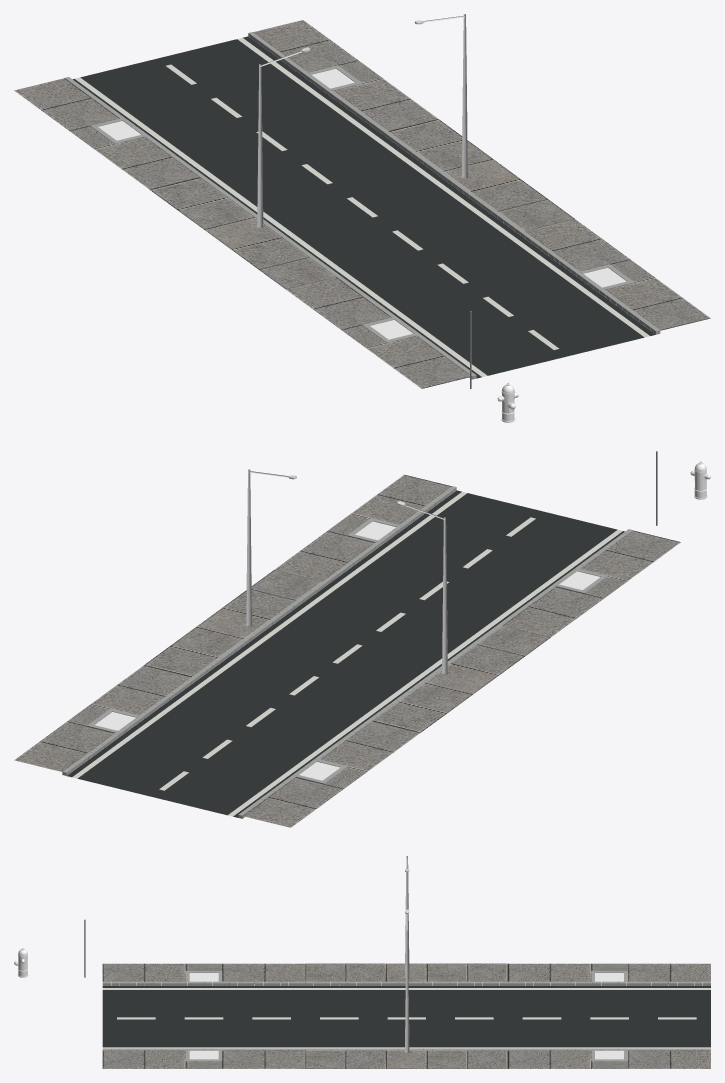
The model's file is carretera-recta-v1.glb.
3 renders of one model, top to bottom at view 1: azimuth 30°, elevation 25°; view 2: azimuth 150°, elevation 25°; view 3: azimuth 270°, elevation 25°, orthographic. The views are drawn at different scales.
Visible parts, largest first — view 1: Plane.715, Plane.722, Plane.727, Plane.726, Plane.719, Plane.731, Plane.718, Plane.730, Plane.725, Plane.729, Plane.717, Plane.724 (+6 smaller); view 2: Plane.727, Plane.722, Plane.715, Plane.726, Plane.731, Plane.719, Plane.730, Plane.718, Plane.725, Plane.729, Plane.717, Plane.724 (+6 smaller); view 3: Plane.715, Plane.727, Plane.722, Plane.726, Plane.719, Plane.731, Plane.718, Plane.730, Plane.725, Plane.717, Plane.729, Plane.724 (+7 smaller).
Part boxes in pixels (x1=…): Plane.715: x1=344, y1=235, x2=655, y2=378; Plane.722: x1=208, y1=136, x2=519, y2=278; Plane.727: x1=73, y1=36, x2=383, y2=178; Plane.726: x1=150, y1=119, x2=574, y2=289; Plane.719: x1=286, y1=219, x2=710, y2=388; Plane.731: x1=14, y1=20, x2=438, y2=189; Plane.718: x1=336, y1=231, x2=660, y2=379; Plane.730: x1=65, y1=32, x2=387, y2=177; Plane.725: x1=200, y1=131, x2=524, y2=276; Plane.729: x1=75, y1=38, x2=378, y2=178; Plane.717: x1=346, y1=236, x2=649, y2=376; Plane.724: x1=211, y1=137, x2=513, y2=277; Plane.727: x1=67, y1=681, x2=364, y2=817; Plane.722: x1=197, y1=585, x2=494, y2=721; Plane.715: x1=327, y1=490, x2=624, y2=626; Plane.726: x1=144, y1=570, x2=550, y2=732; Plane.731: x1=14, y1=665, x2=420, y2=827; Plane.719: x1=274, y1=474, x2=680, y2=637; Plane.730: x1=62, y1=676, x2=372, y2=818; Plane.718: x1=323, y1=486, x2=632, y2=625; Plane.725: x1=193, y1=581, x2=502, y2=720; Plane.729: x1=72, y1=682, x2=362, y2=816; Plane.717: x1=332, y1=491, x2=622, y2=625; Plane.724: x1=202, y1=587, x2=492, y2=721; Plane.715: x1=102, y1=986, x2=305, y2=1050; Plane.727: x1=508, y1=986, x2=710, y2=1050; Plane.722: x1=305, y1=986, x2=508, y2=1050; Plane.726: x1=305, y1=963, x2=508, y2=1068; Plane.719: x1=102, y1=963, x2=305, y2=1068; Plane.731: x1=508, y1=963, x2=710, y2=1068; Plane.718: x1=102, y1=981, x2=305, y2=1050; Plane.730: x1=508, y1=981, x2=710, y2=1050; Plane.725: x1=305, y1=981, x2=508, y2=1050; Plane.717: x1=102, y1=988, x2=305, y2=1048; Plane.729: x1=508, y1=988, x2=710, y2=1048; Plane.724: x1=305, y1=988, x2=508, y2=1048.
Bounding box in the file's own units: 12.9 × 7.34 × 36.09.
Materials: 7 (1 with a texture image).
